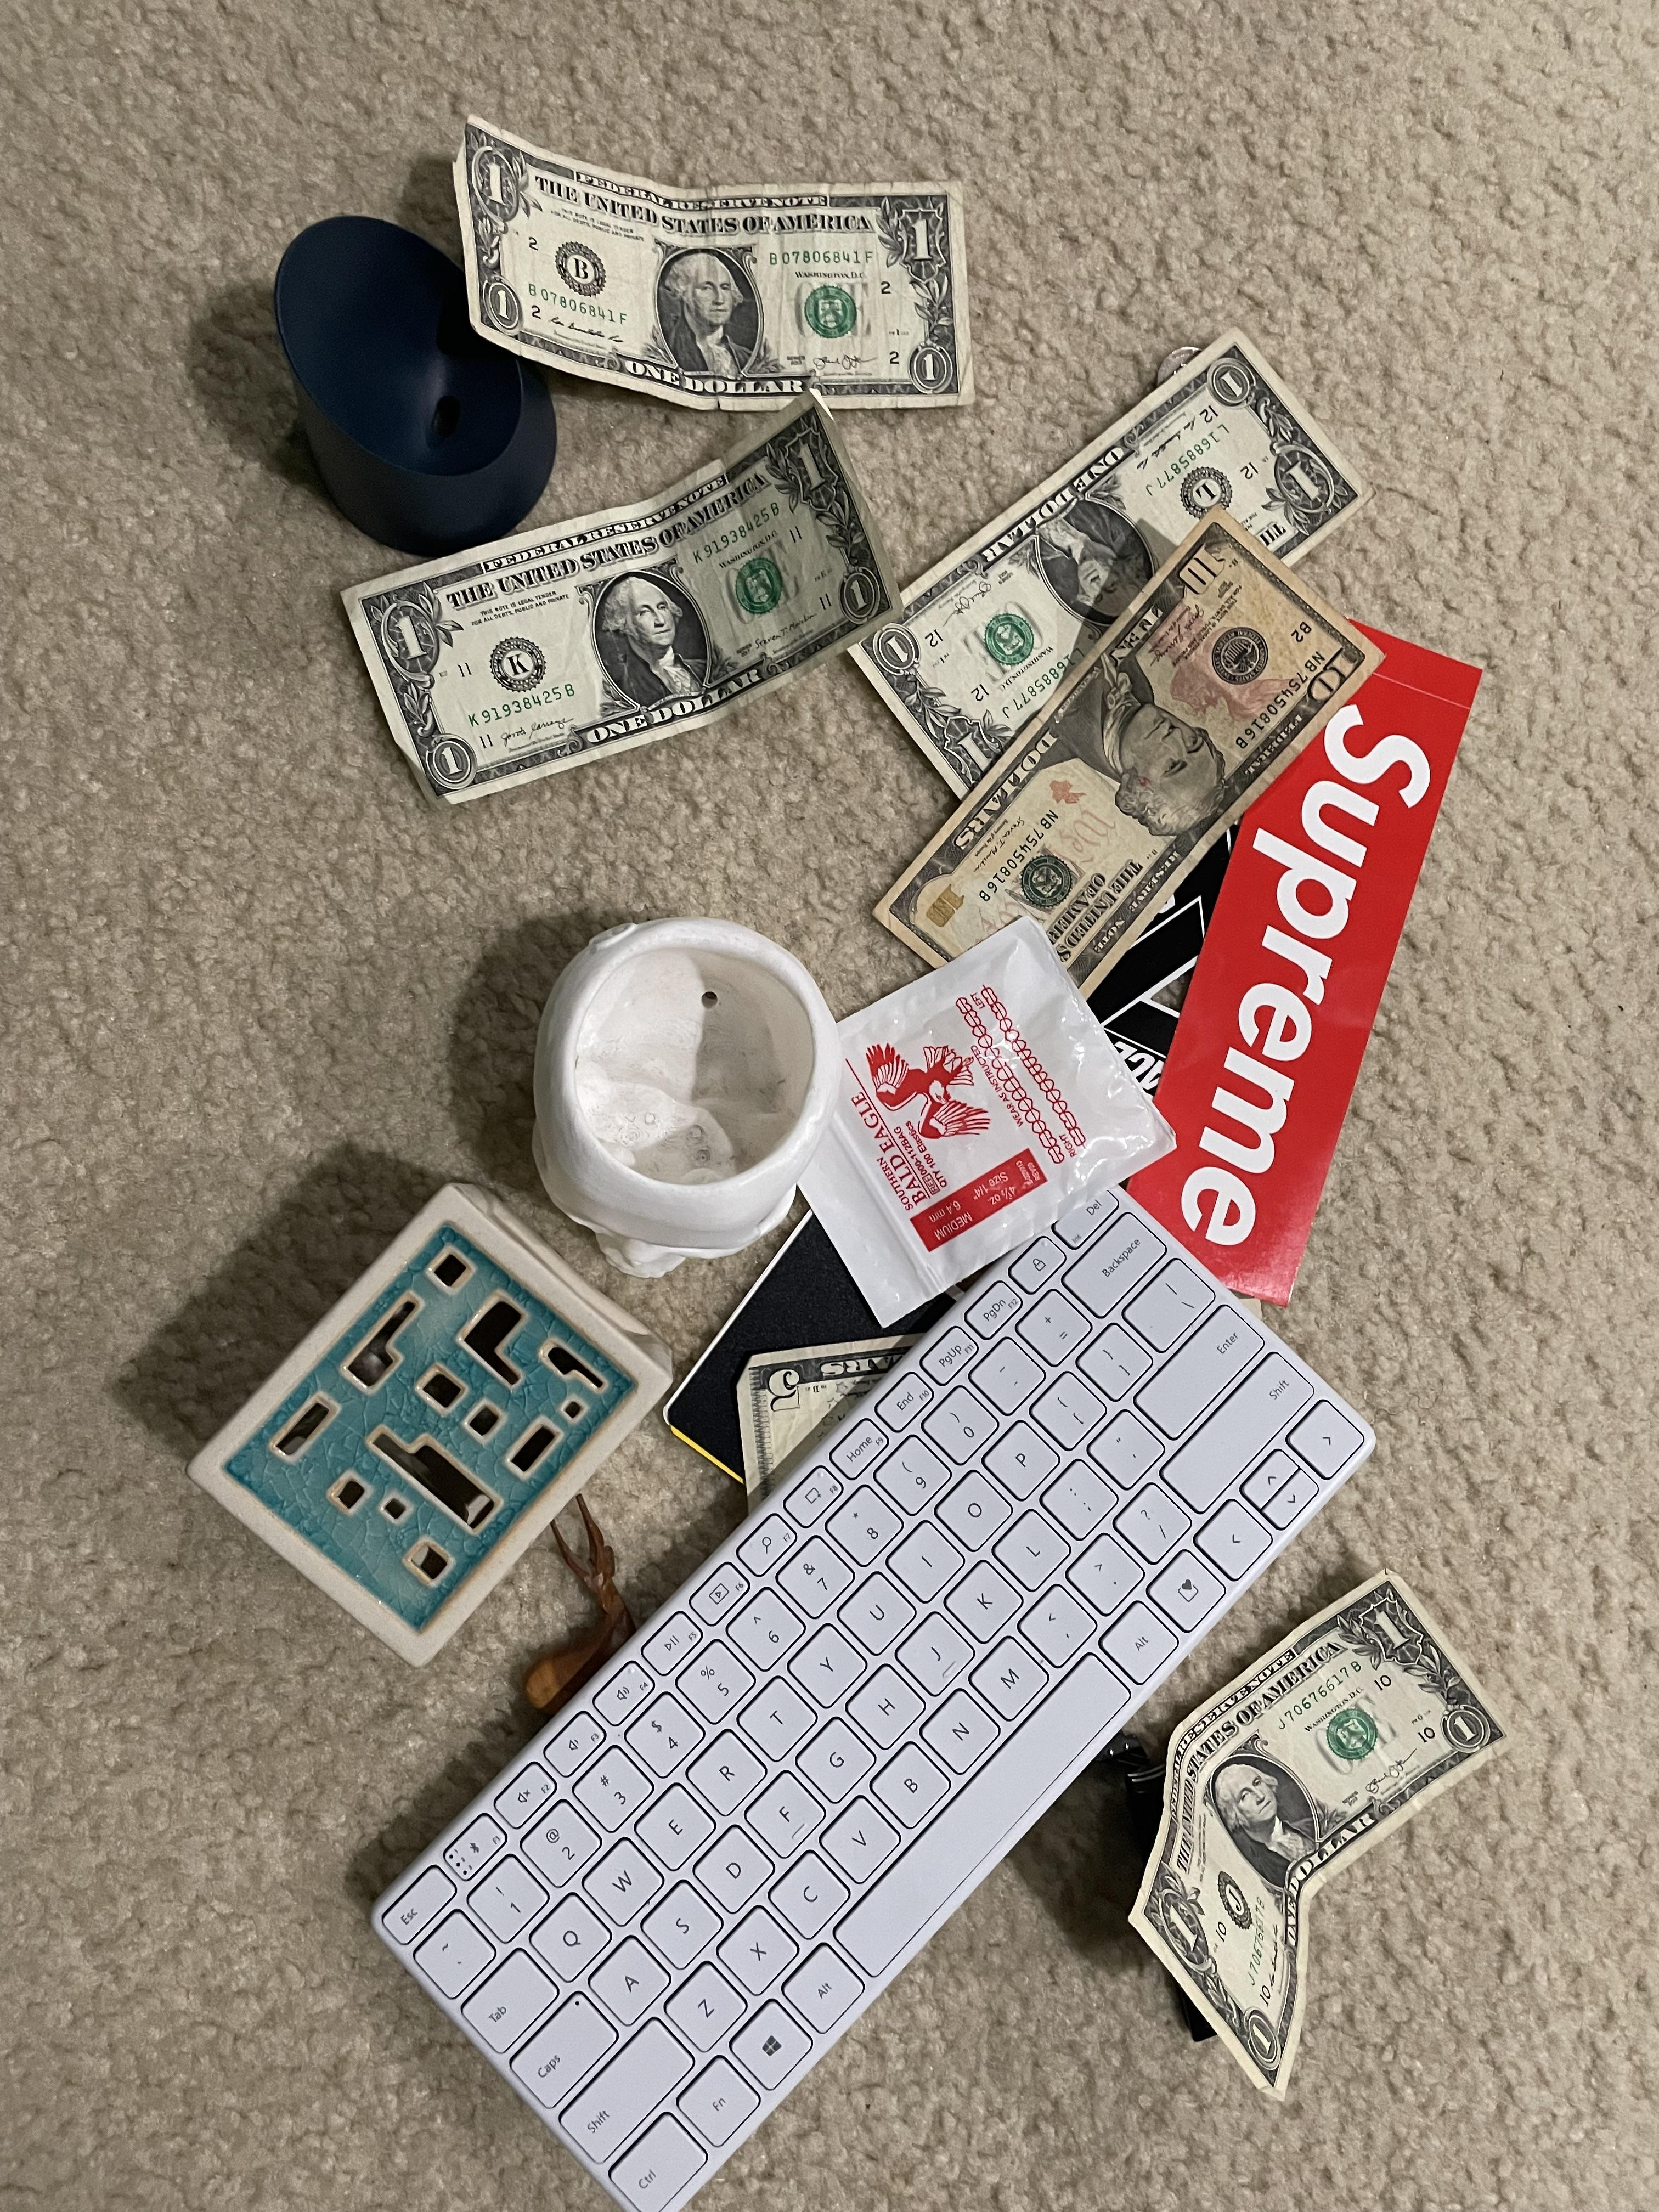OneBill: (871, 502, 1391, 1019), (336, 401, 904, 813), (854, 334, 1352, 784), (1124, 1564, 1516, 2107), (450, 118, 972, 423)
